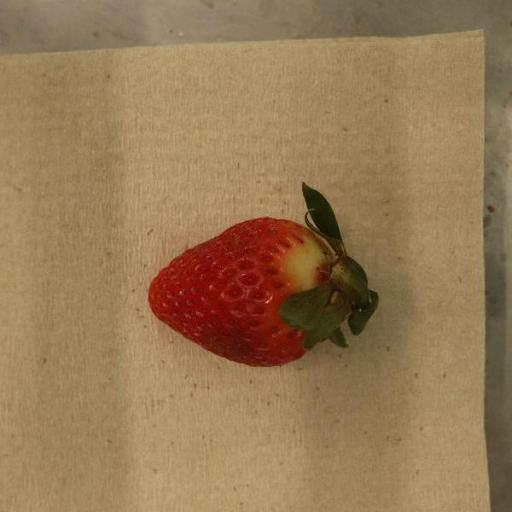Strawberry: (148, 183, 380, 368)
